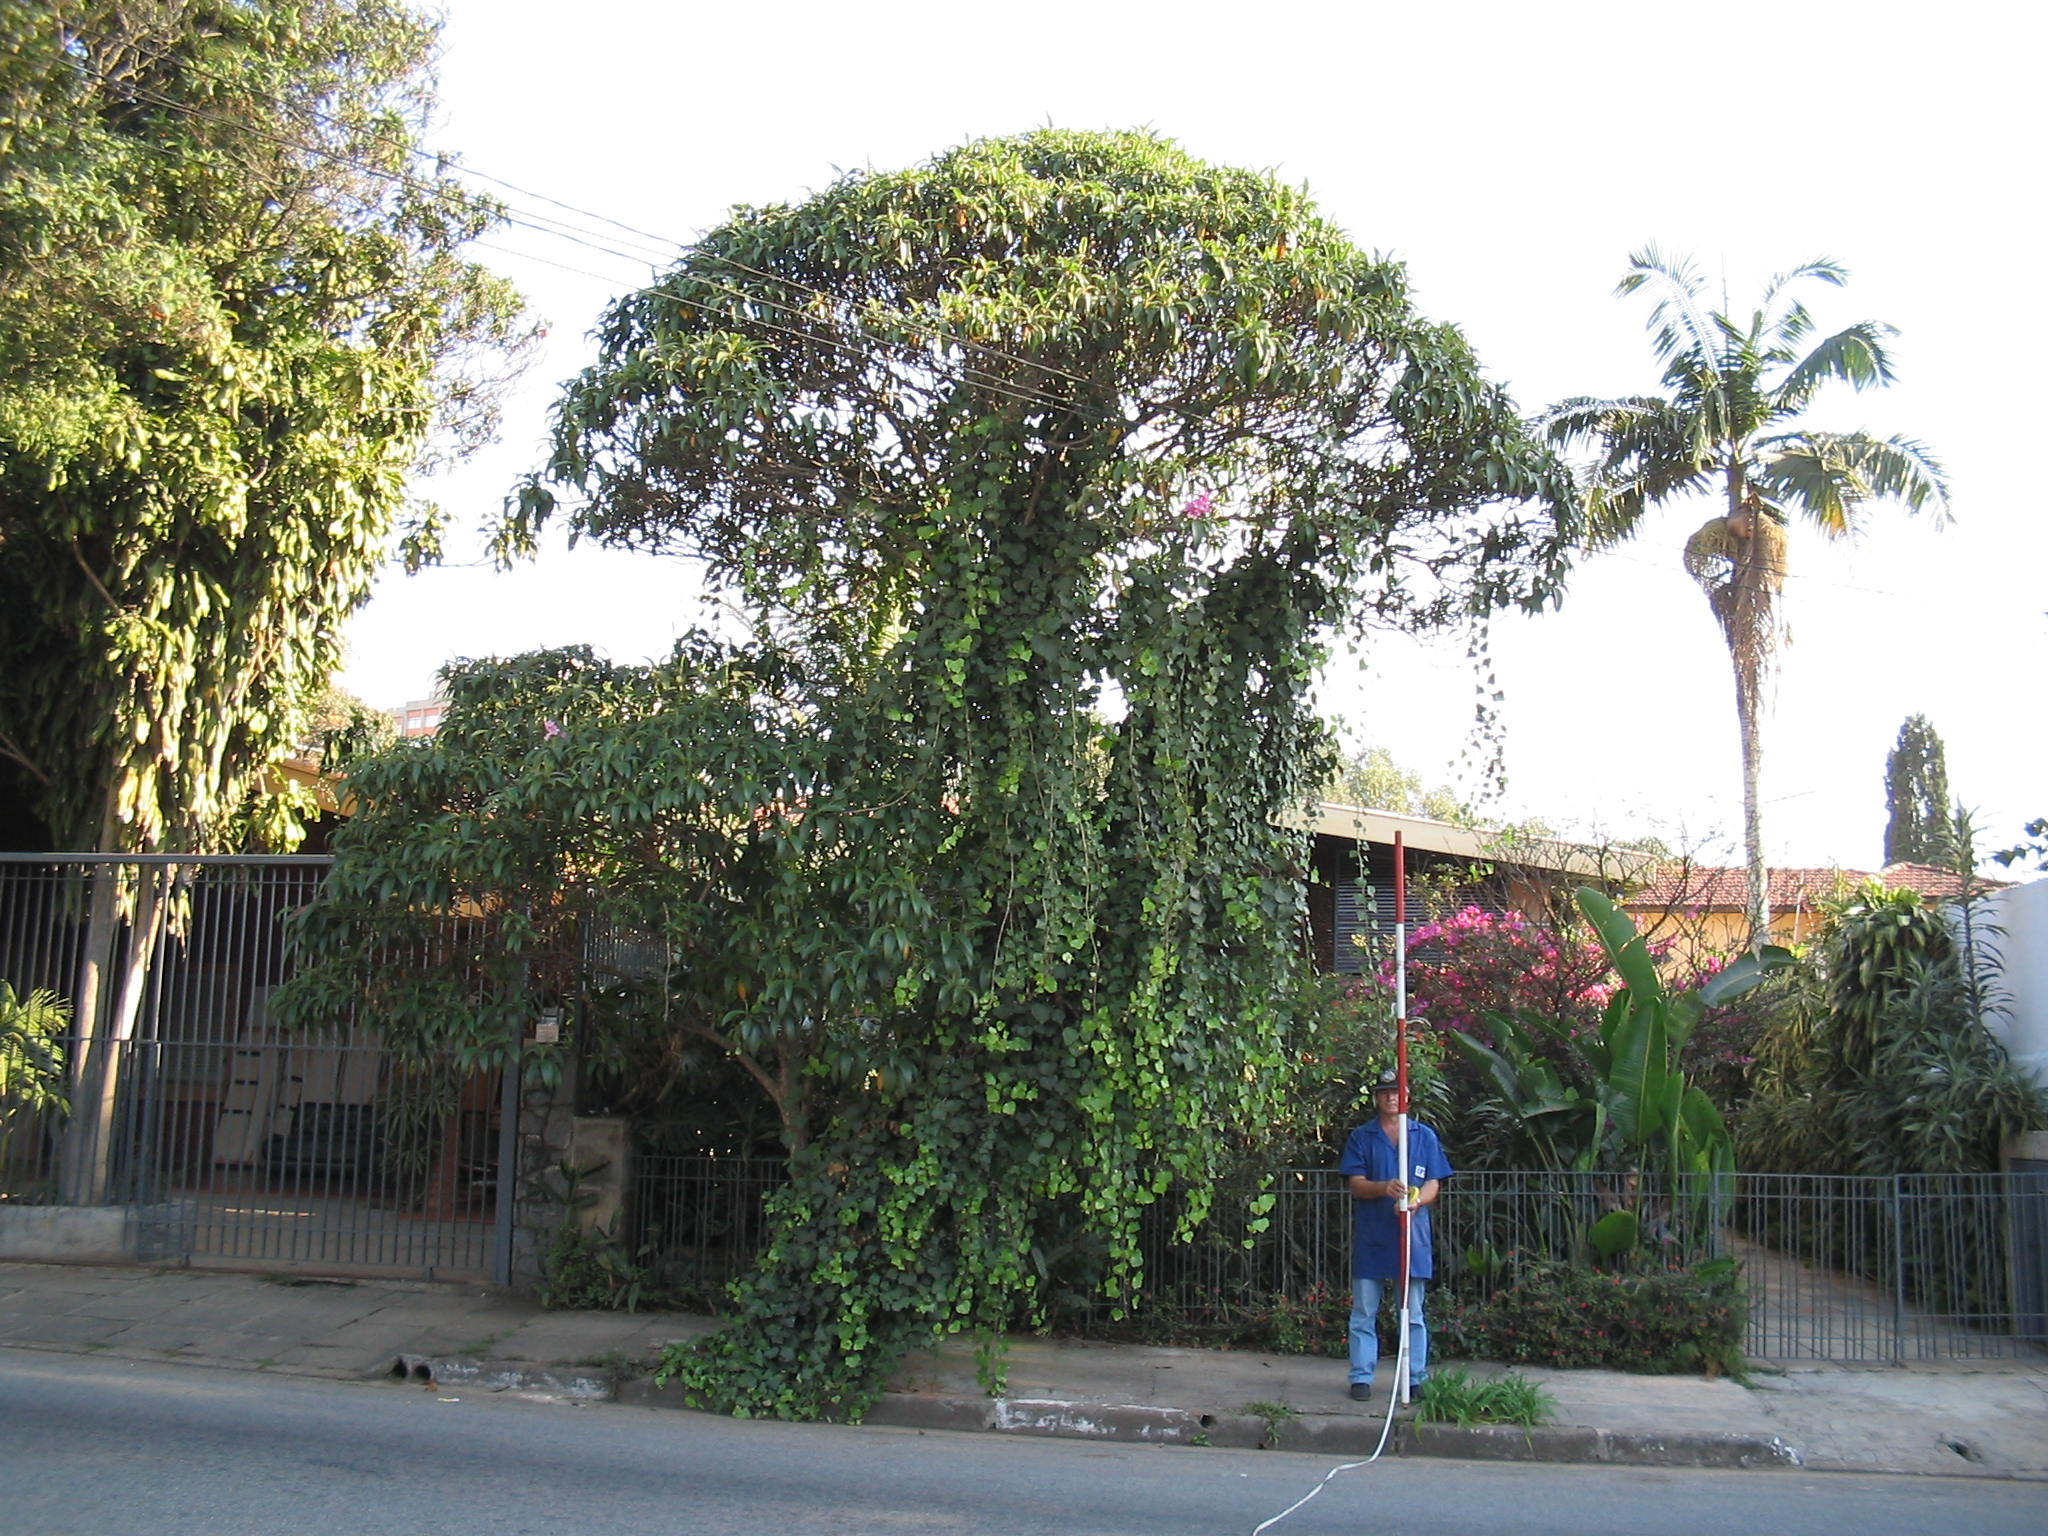stick: (1376, 826, 1422, 1410)
